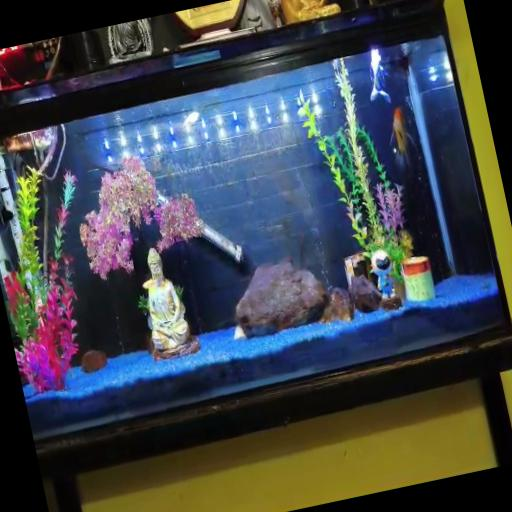Fish: (389, 108, 415, 169), (369, 49, 390, 103), (182, 111, 199, 127)
